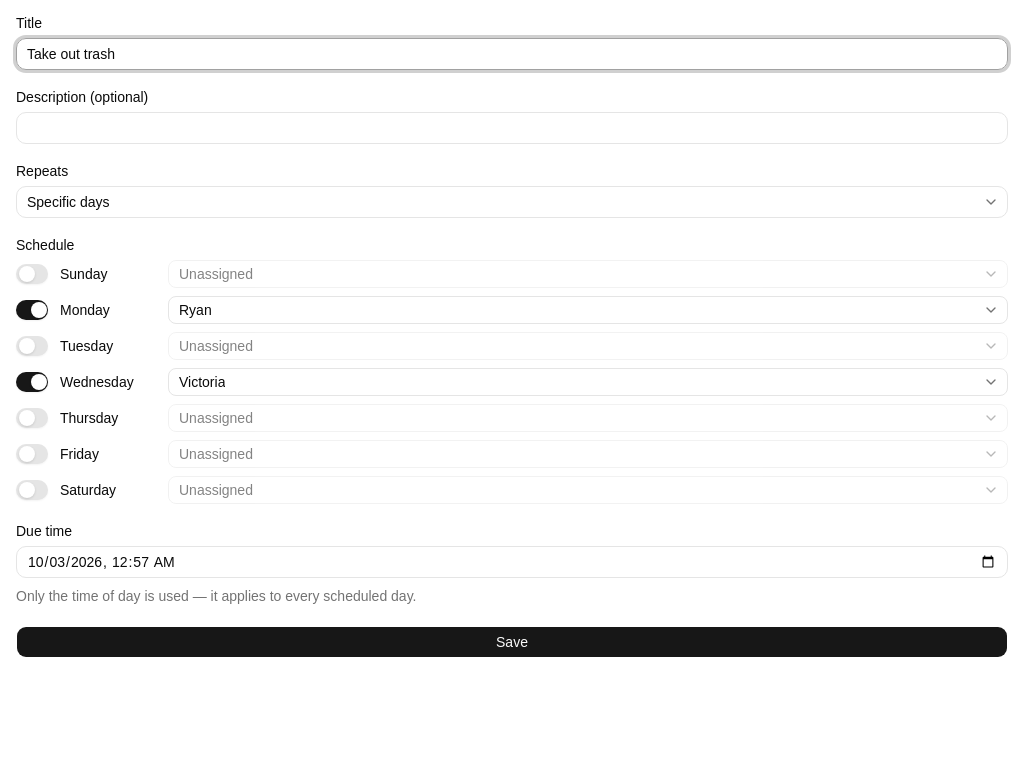
it: ChoreForm › disables submit once every scheduled day is toggled off
The image size is (1024, 768).
Expected: the button "Save" is enabled, [16,626,1008,658]
Click the switch named "Include Monday". click: [32, 310]
box: [16,300,48,320]
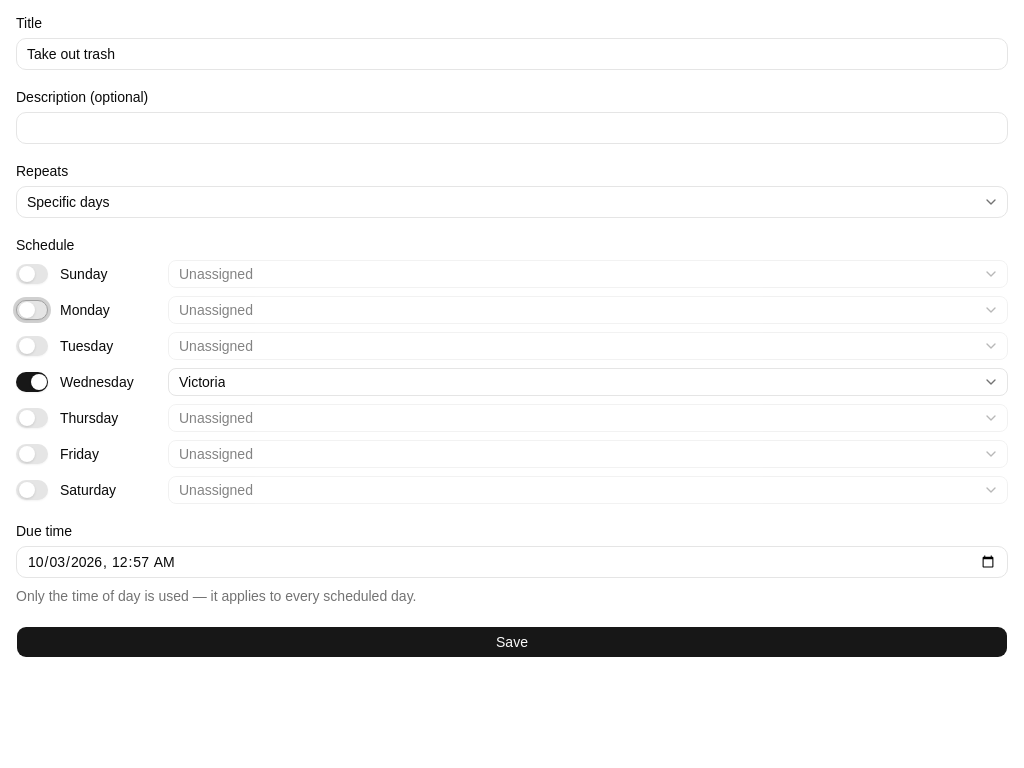
Click the switch named "Include Wednesday". click: [32, 382]
box: [16,372,48,392]
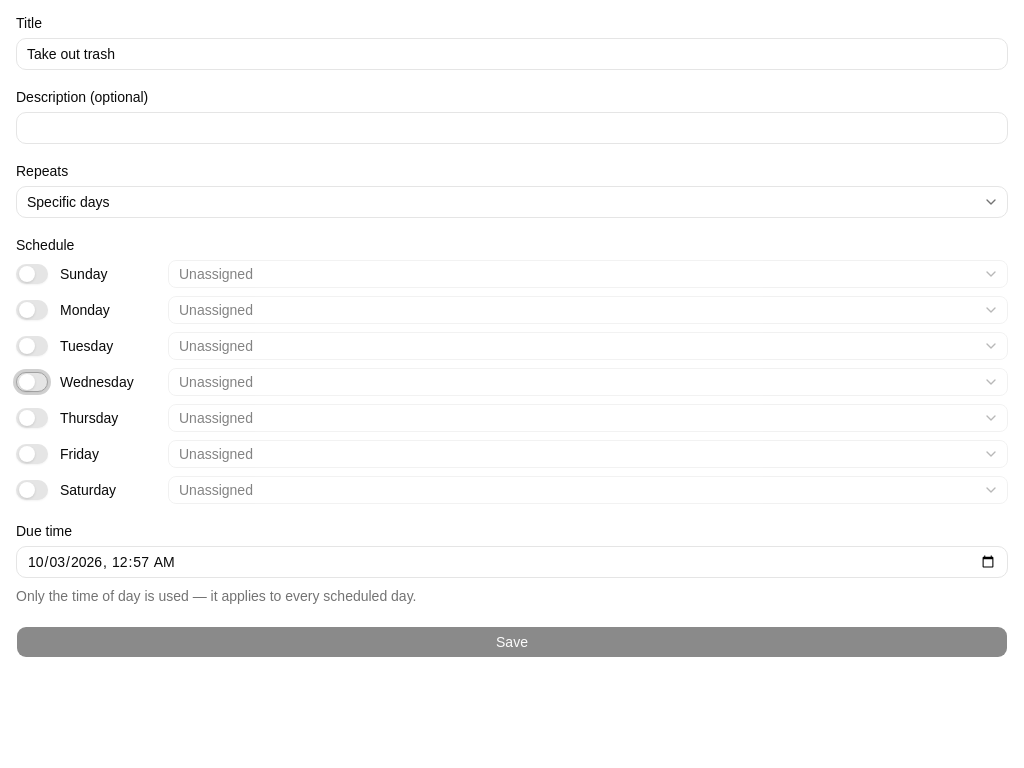
Now the button "Save" is disabled, box [16,626,1008,658]
